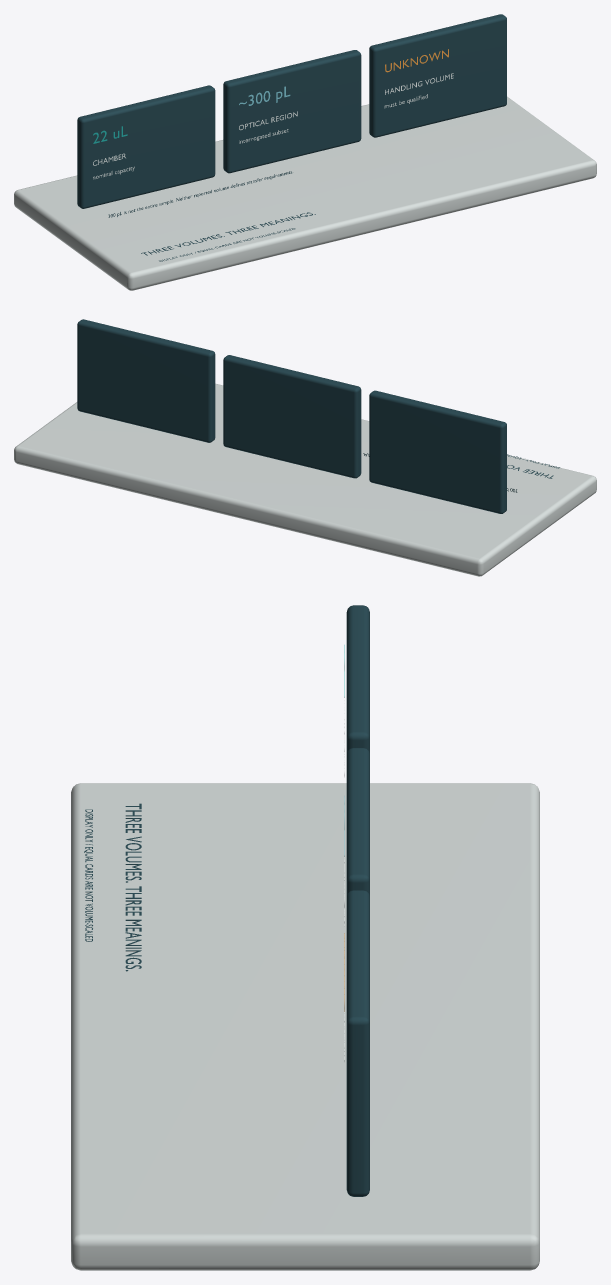
File: sucrose_volume_lineage_display.glb
The picture shows the model from 3 angles, top to bottom: view 1: azimuth 30°, elevation 25°; view 2: azimuth 150°, elevation 25°; view 3: azimuth 270°, elevation 25°; orthographic projection. The views are drawn at different scales.
Parts seen in each view (by area): view 1: display.base, display.card.0, display.card.1, display.card.2, display.title, display.facts; view 2: display.base, display.card.1, display.card.2, display.card.0; view 3: display.base, display.card.2, display.card.1, display.card.0, display.title.
Boxes of the visible parts, left/top/right/bottom form: display.base: left=14, top=96, right=596, bottom=290; display.card.0: left=77, top=85, right=215, bottom=208; display.card.1: left=223, top=50, right=361, bottom=173; display.card.2: left=369, top=14, right=506, bottom=137; display.title: left=141, top=212, right=315, bottom=255; display.facts: left=108, top=171, right=291, bottom=217; display.base: left=14, top=383, right=596, bottom=576; display.card.1: left=223, top=355, right=361, bottom=478; display.card.2: left=77, top=319, right=215, bottom=442; display.card.0: left=369, top=390, right=506, bottom=513; display.base: left=71, top=783, right=539, bottom=1270; display.card.2: left=346, top=890, right=369, bottom=1196; display.card.1: left=346, top=748, right=369, bottom=896; display.card.0: left=346, top=605, right=369, bottom=753; display.title: left=125, top=803, right=141, bottom=971.
Size of the model in its own units: 1.64 by 0.39 by 0.71.
